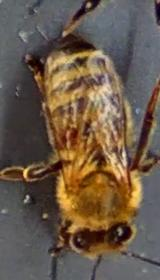varroa_mite: (46, 118, 87, 155)
